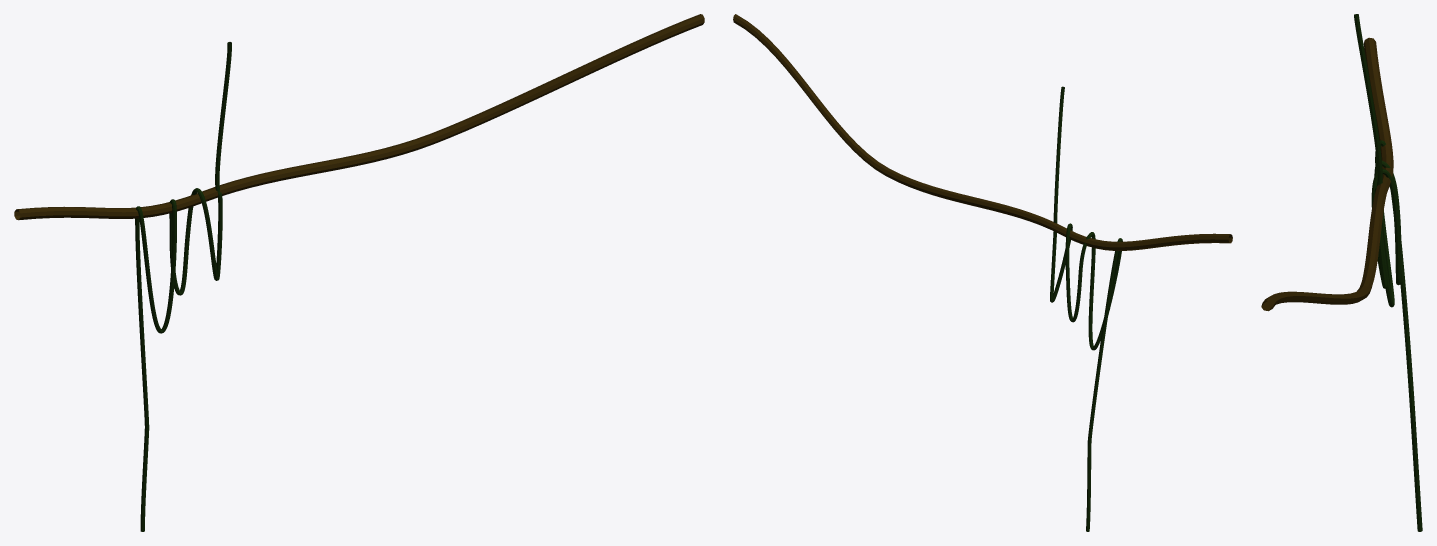
File: PnączeKonar2.fbx
The picture shows the model from 3 angles, left to right: view 1: azimuth 30°, elevation 25°; view 2: azimuth 150°, elevation 25°; view 3: azimuth 270°, elevation 25°; orthographic projection. The views are drawn at different scales.
Visible parts, largest first — view 1: BezierCurve.006, BezierCurve.005; view 2: BezierCurve.006, BezierCurve.005; view 3: BezierCurve.005, BezierCurve.006.
Part boxes in pixels (x1,y1,x2,y2): BezierCurve.006: (14, 14, 704, 220); BezierCurve.005: (135, 42, 231, 531); BezierCurve.006: (733, 14, 1232, 250); BezierCurve.005: (1050, 86, 1122, 531); BezierCurve.005: (1354, 14, 1422, 531); BezierCurve.006: (1261, 37, 1393, 311).
Size of the model in its own units: 15.09 by 11.16 by 2.98.
